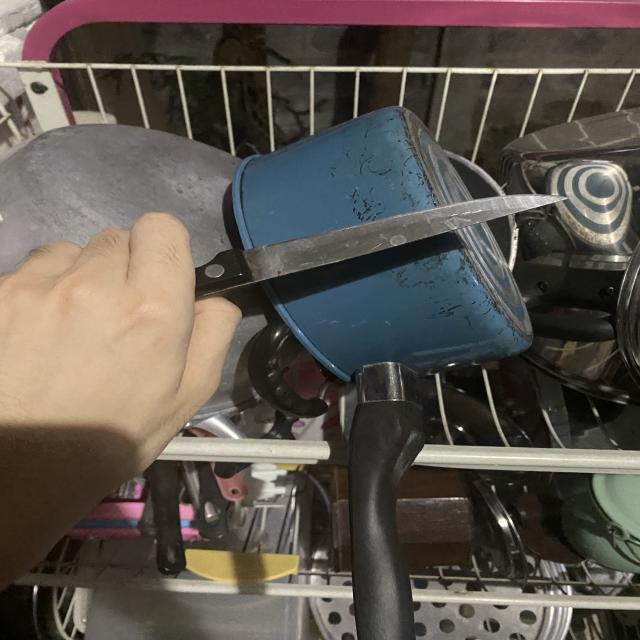faca: (0, 174, 584, 432)
